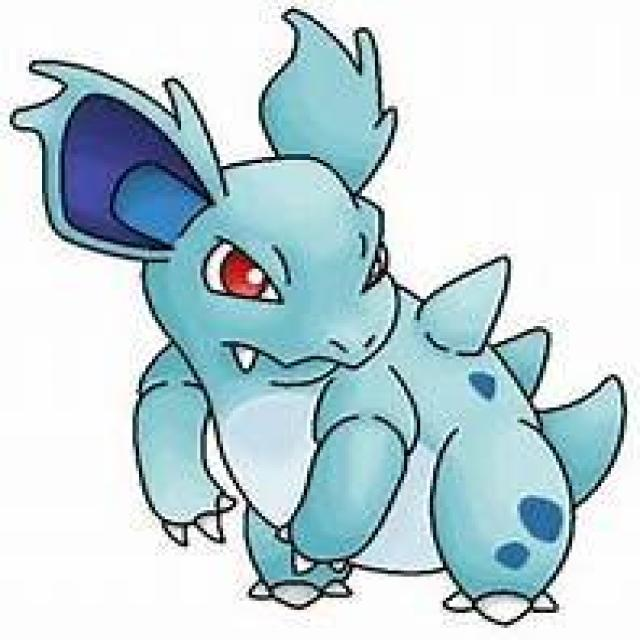Nidorina: (14, 0, 640, 640)
